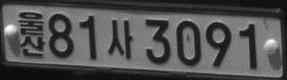0: (175, 20, 201, 66)
1: (237, 23, 264, 69), (77, 15, 102, 60)
3: (144, 18, 171, 64)
8: (47, 12, 74, 58)
9: (205, 21, 232, 67)
사: (108, 19, 133, 59)
울산_V: (17, 10, 46, 57)
